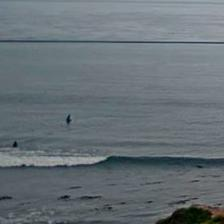surfer: (66, 114, 72, 124), (12, 141, 18, 148)
